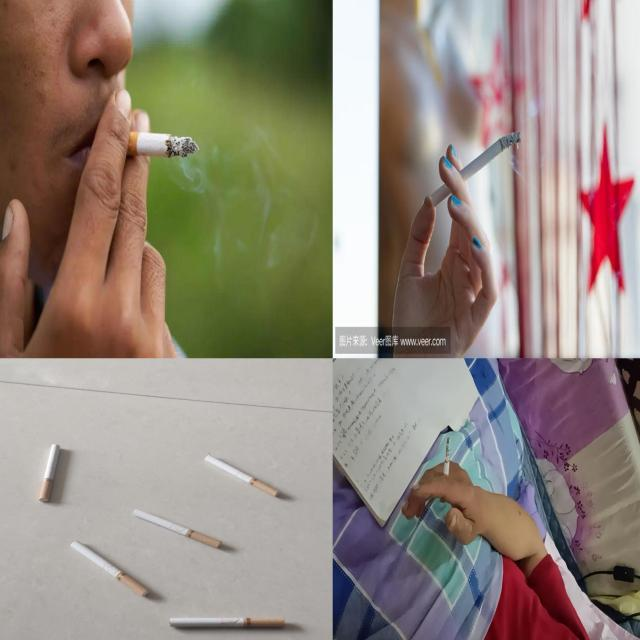cigarette: (431, 132, 522, 208), (70, 540, 151, 597), (132, 509, 224, 549), (204, 456, 282, 498), (95, 128, 199, 158), (168, 617, 286, 628), (40, 444, 62, 502), (440, 436, 450, 504)
